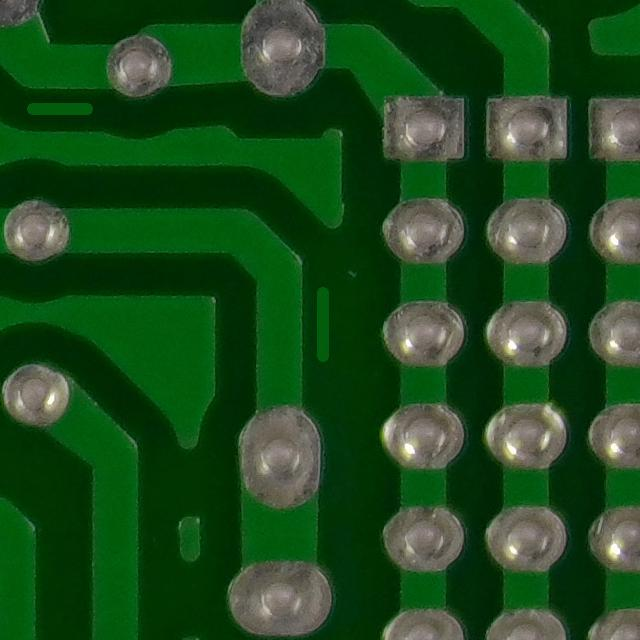spurious_copper: (300, 271, 340, 370)
